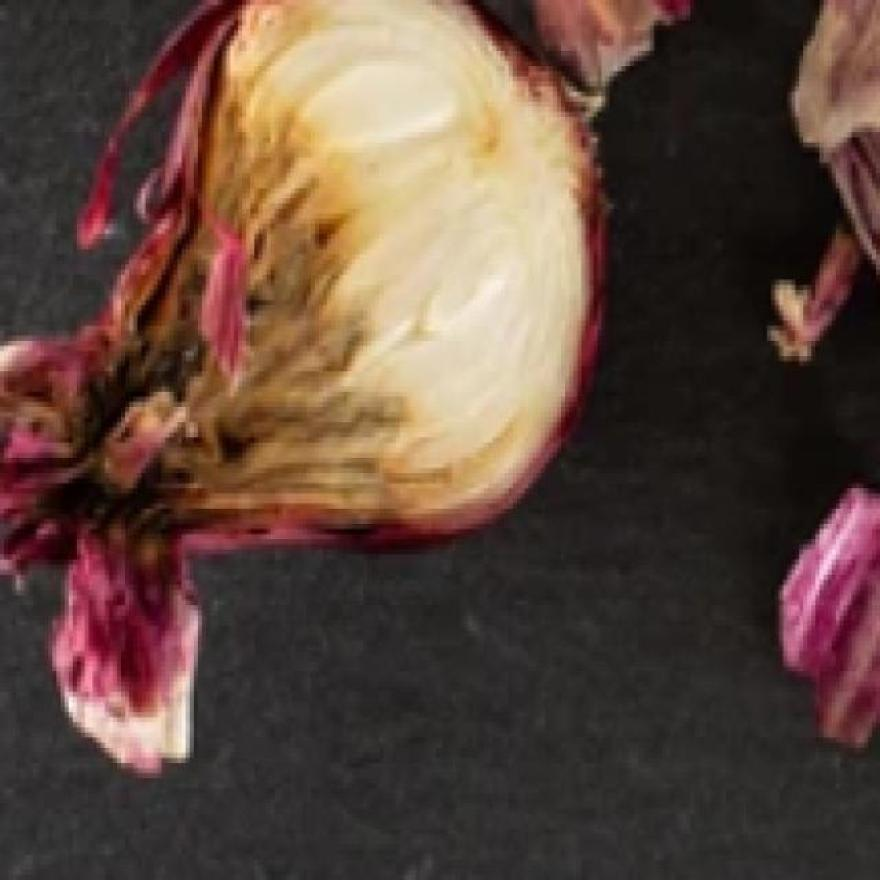Rotten: (49, 269, 222, 601)
